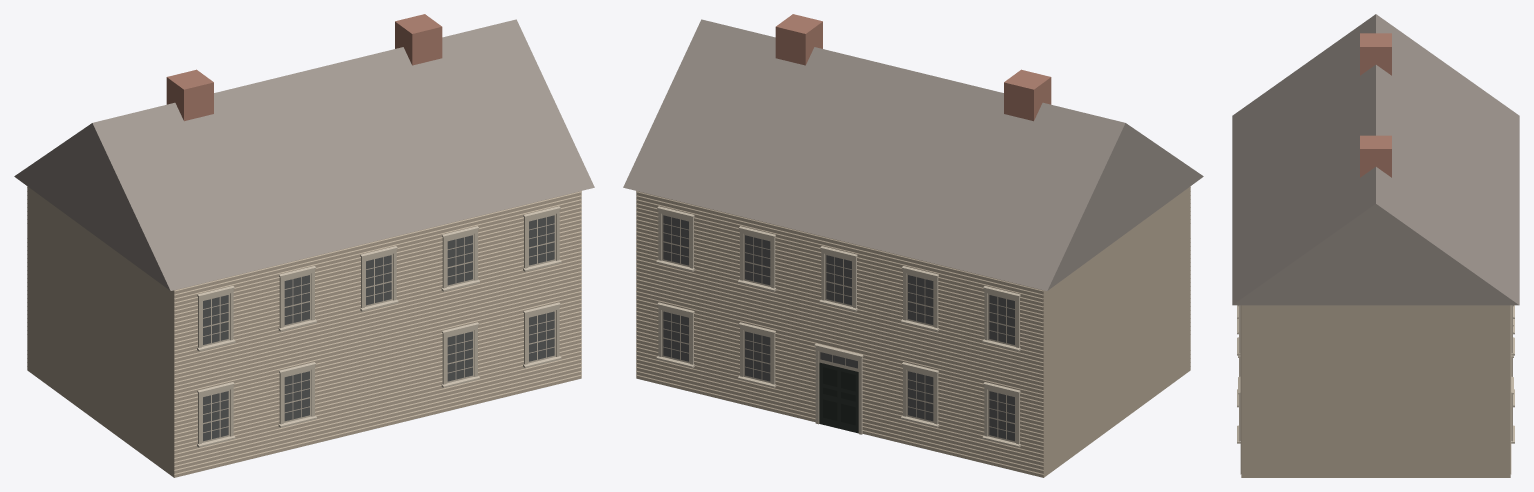
Rendered from new_york_house__frame_1834.glb.
3 views of the same model, side by side, from view 1: azimuth 30°, elevation 25°; view 2: azimuth 150°, elevation 25°; view 3: azimuth 270°, elevation 25° (orthographic). The views are drawn at different scales.
Parts seen in each view (by area): view 1: new_york_house__frame_1834; view 2: new_york_house__frame_1834; view 3: new_york_house__frame_1834.
Part boxes in pixels (x1,y1,x2,y2): new_york_house__frame_1834: (14,14,594,477); new_york_house__frame_1834: (623,14,1203,477); new_york_house__frame_1834: (1232,14,1519,477).
Size of the model in its own units: 12.69 by 9.22 by 8.12.
